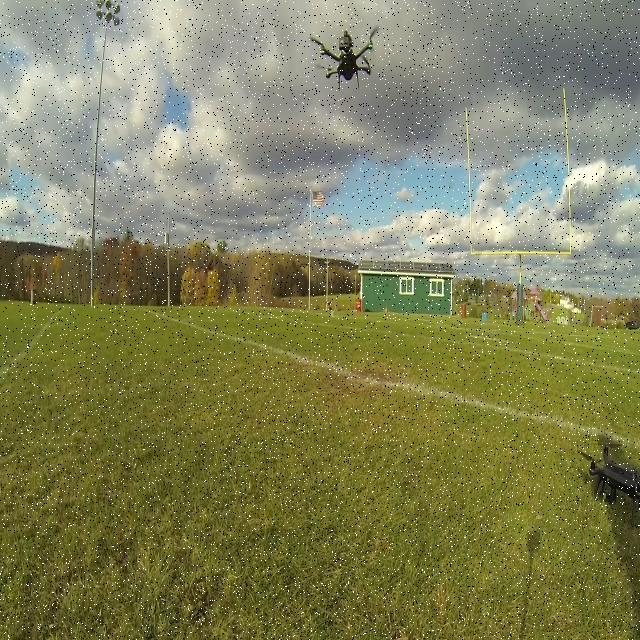UAV: (577, 443, 640, 525), (308, 25, 381, 91)
